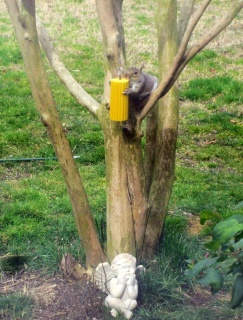Squirrel: (121, 60, 159, 105)
